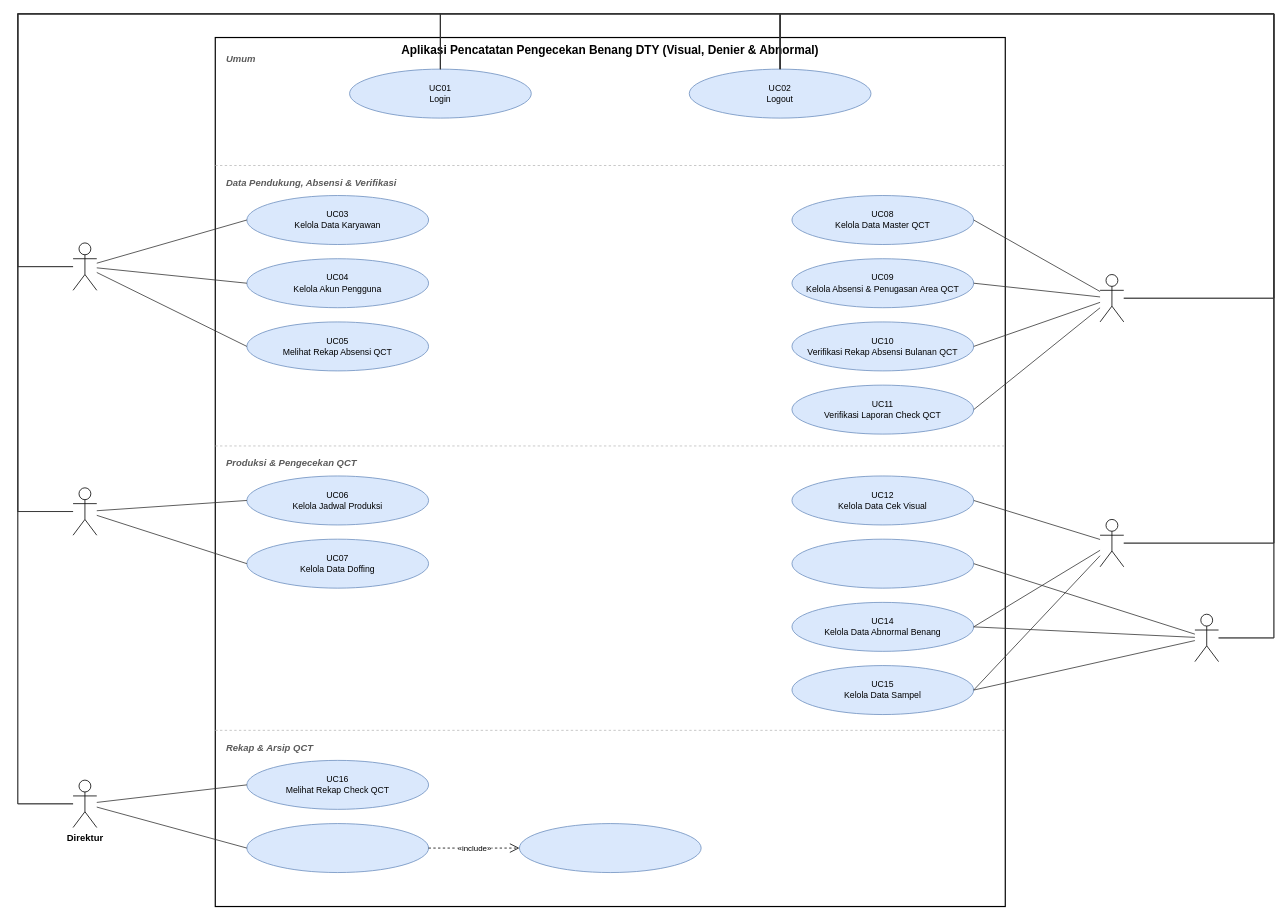
Image size: 1288x921. Some labels were removed from this diagram. The shapes that lost their labels are listed below. From the top down, each one's centre as x and y in pixels, then its label:
point 84,266: Staf Admin Divisi Admin – Area Kepegawaian
point 1111,298: HOD QCT Divisi QCT
point 84,511: Supervisor Produksi Divisi Produksi
point 882,563: UC13 Kelola Data Cek Denier
point 1111,543: Operator QCT Area Visual
point 1206,637: Operator QCT Area Lab
point 337,848: UC17 Verifikasi Rekap Check QCT
point 610,848: UC18 Arsipkan Rekap Check QCT
